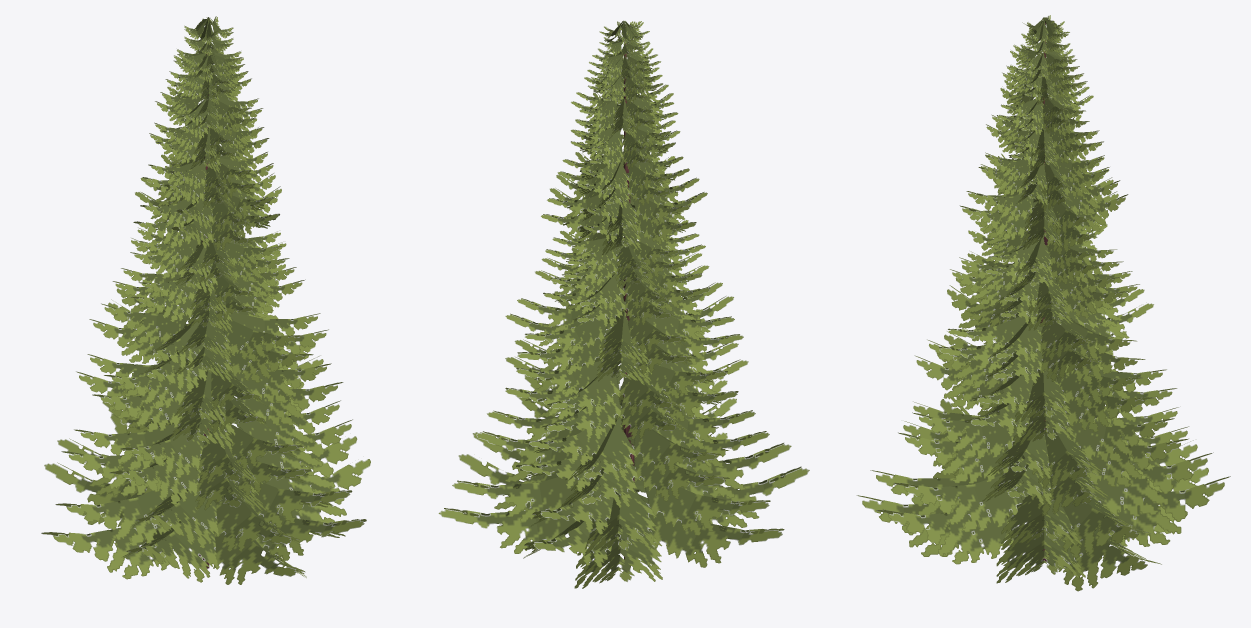
The model's file is spiky_tree.fbx.
3 views of the same model, side by side, from view 1: azimuth 30°, elevation 25°; view 2: azimuth 150°, elevation 25°; view 3: azimuth 270°, elevation 25° (orthographic).
Visible parts, largest first — view 1: spiky_tree; view 2: spiky_tree; view 3: spiky_tree.
Boxes of the visible parts, bbox=[...] form: spiky_tree: bbox=[41, 16, 370, 584]; spiky_tree: bbox=[438, 20, 809, 588]; spiky_tree: bbox=[856, 15, 1230, 591].
Bounding box in the file's own units: 2638 × 4186 × 2691.
Materials: 1 (1 with a texture image).
